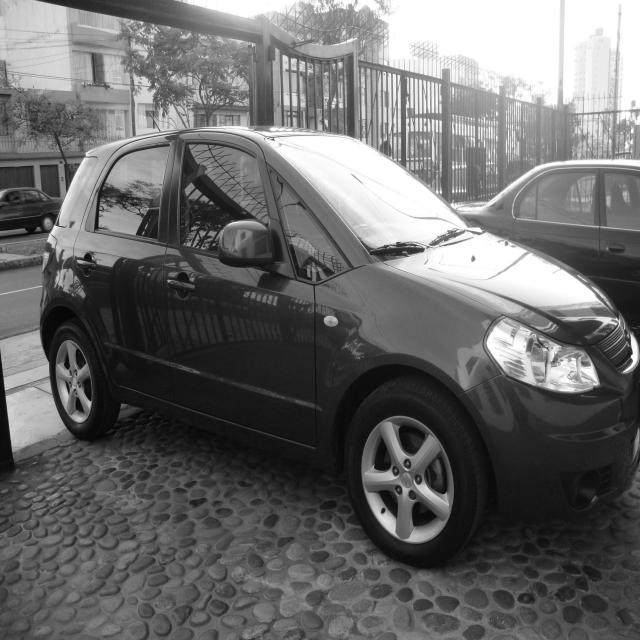car: (39, 123, 640, 568), (454, 158, 640, 319), (0, 187, 64, 235)
